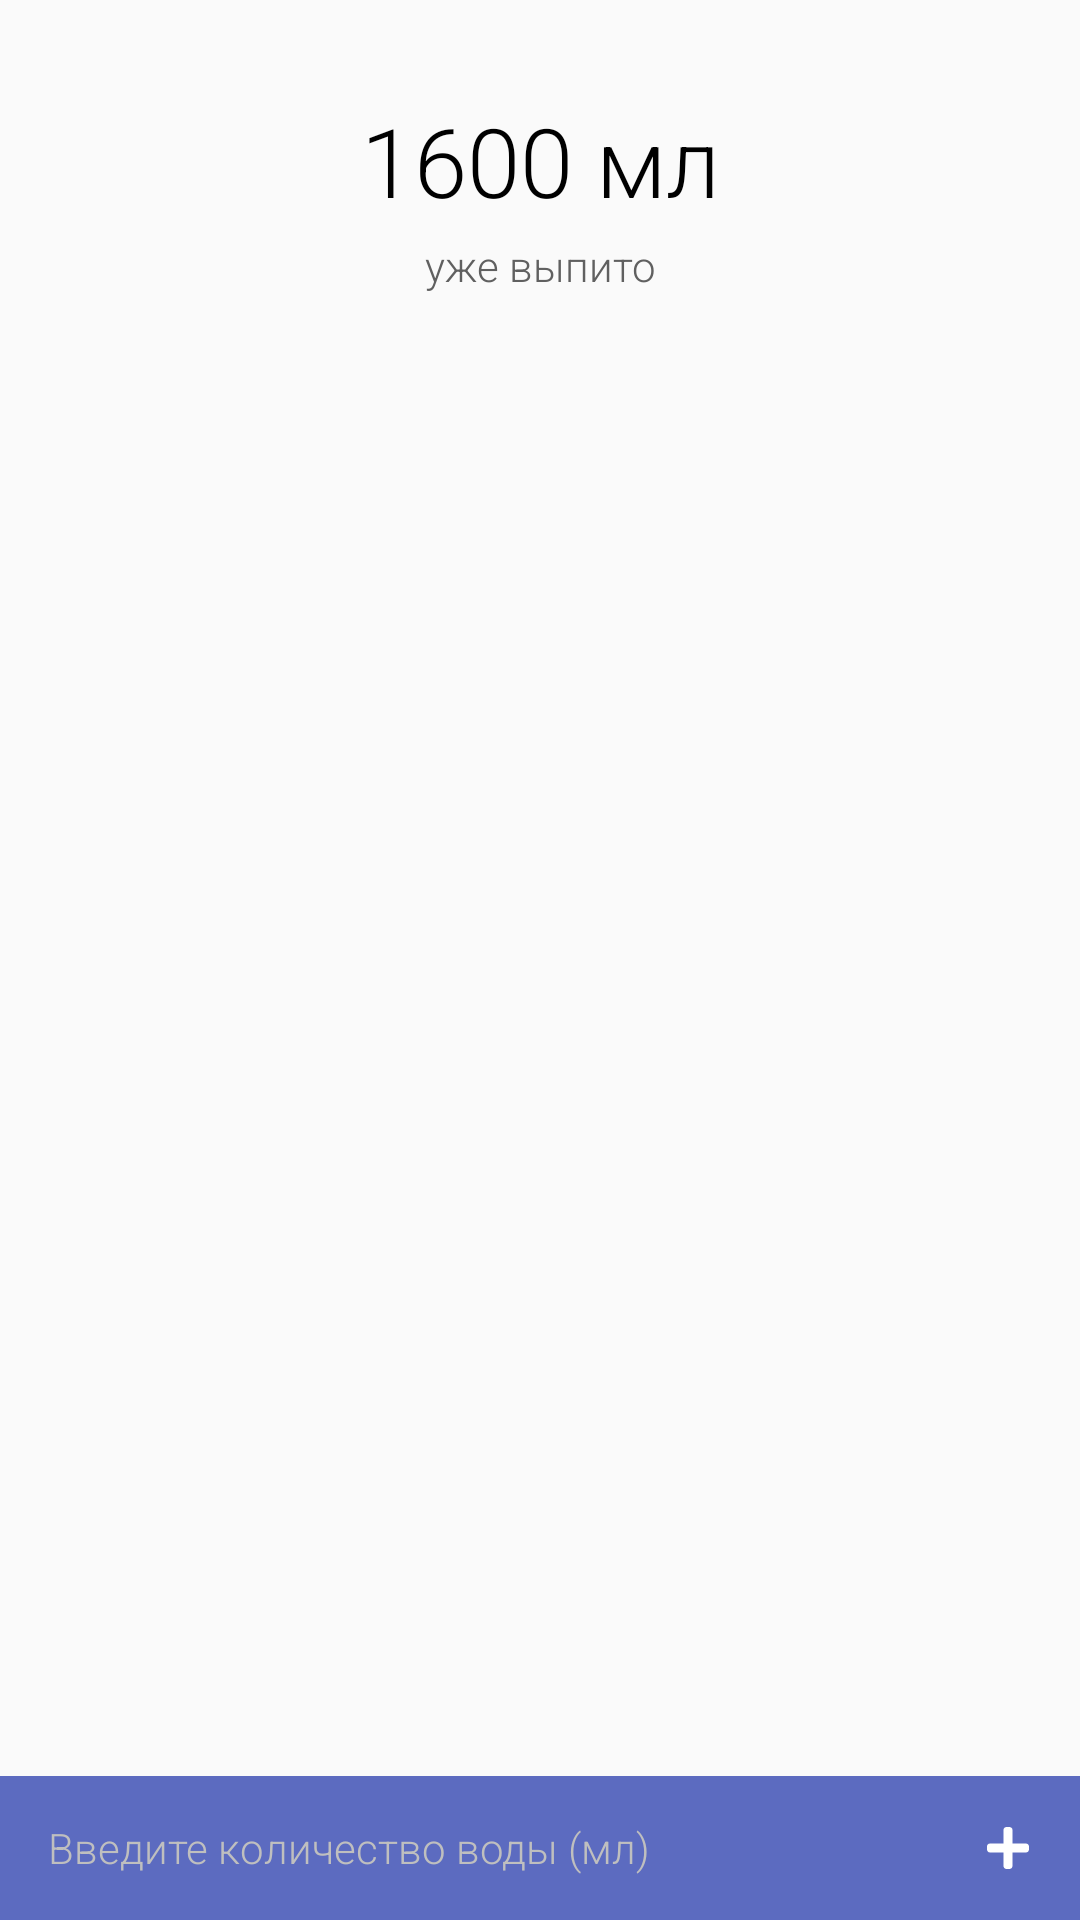

Screen size 1080px×1920px. Icon name, then its box in pixels as {"x1": x1, "y1": y1, "x2": x2, "y2": y2}:
plus: {"x1": 987, "y1": 1827, "x2": 1029, "y2": 1869}
